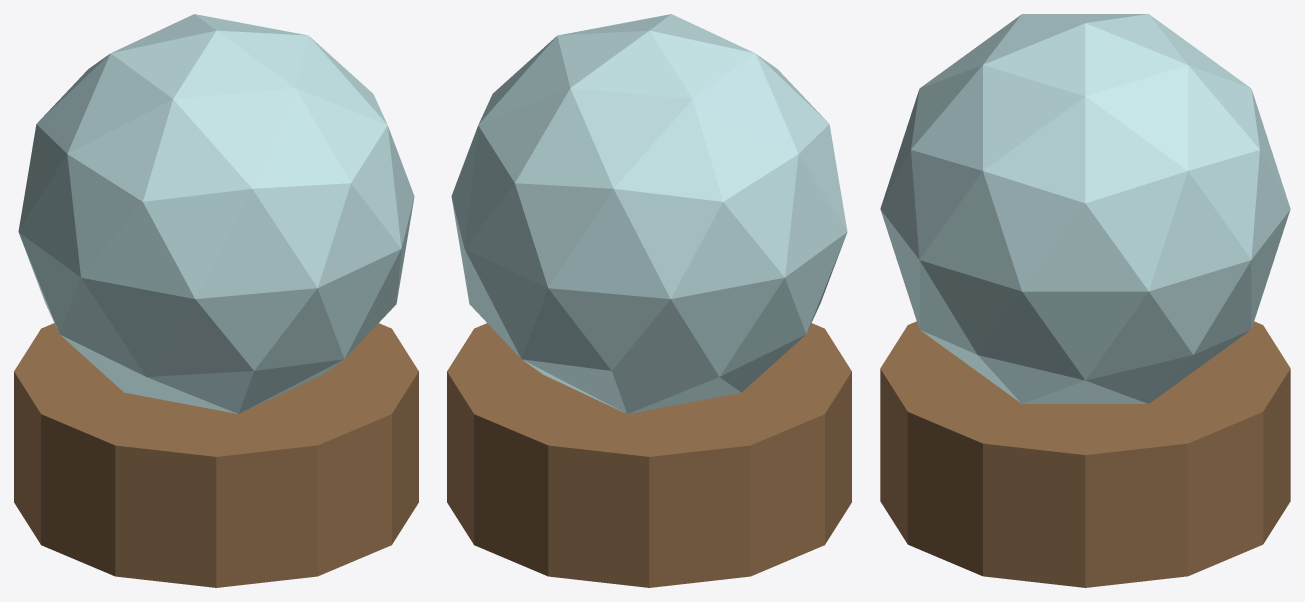
Rendered from sm_product_snow_globe_glass.glb.
3 renders of one model, left to right at view 1: azimuth 30°, elevation 25°; view 2: azimuth 150°, elevation 25°; view 3: azimuth 270°, elevation 25°, orthographic.
Visible parts, largest first — view 1: snow_globe_glass_1, snow_globe_glass_0; view 2: snow_globe_glass_1, snow_globe_glass_0; view 3: snow_globe_glass_1, snow_globe_glass_0.
Part boxes in pixels (x1=…): snow_globe_glass_1: x1=18, y1=14, x2=414, y2=413; snow_globe_glass_0: x1=14, y1=323, x2=418, y2=587; snow_globe_glass_1: x1=451, y1=14, x2=847, y2=413; snow_globe_glass_0: x1=447, y1=323, x2=851, y2=587; snow_globe_glass_1: x1=880, y1=14, x2=1290, y2=403; snow_globe_glass_0: x1=880, y1=321, x2=1290, y2=587.
Size of what is drawn, in the model's own units: 0.14 by 0.18 by 0.14.
